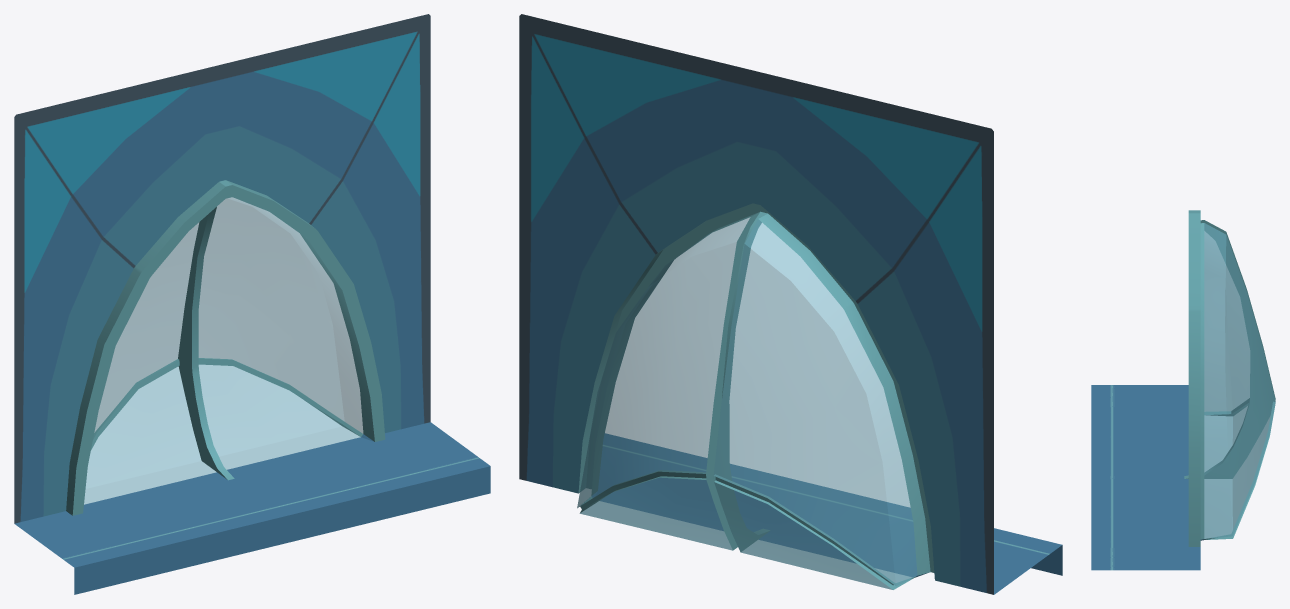
The model's file is Window_Wall.fbx.
3 views of the same model, side by side, from view 1: azimuth 30°, elevation 25°; view 2: azimuth 150°, elevation 25°; view 3: azimuth 270°, elevation 25° (orthographic). The views are drawn at different scales.
Visible parts, largest first — view 1: WindoW; view 2: WindoW; view 3: WindoW.
Part boxes in pixels (x1=…): WindoW: x1=14, y1=14, x2=490, y2=594; WindoW: x1=519, y1=14, x2=1062, y2=594; WindoW: x1=1091, y1=210, x2=1275, y2=570.
Bounding box in the file's own units: 400 × 400 × 168.
Materials: 2 (1 with a texture image).
